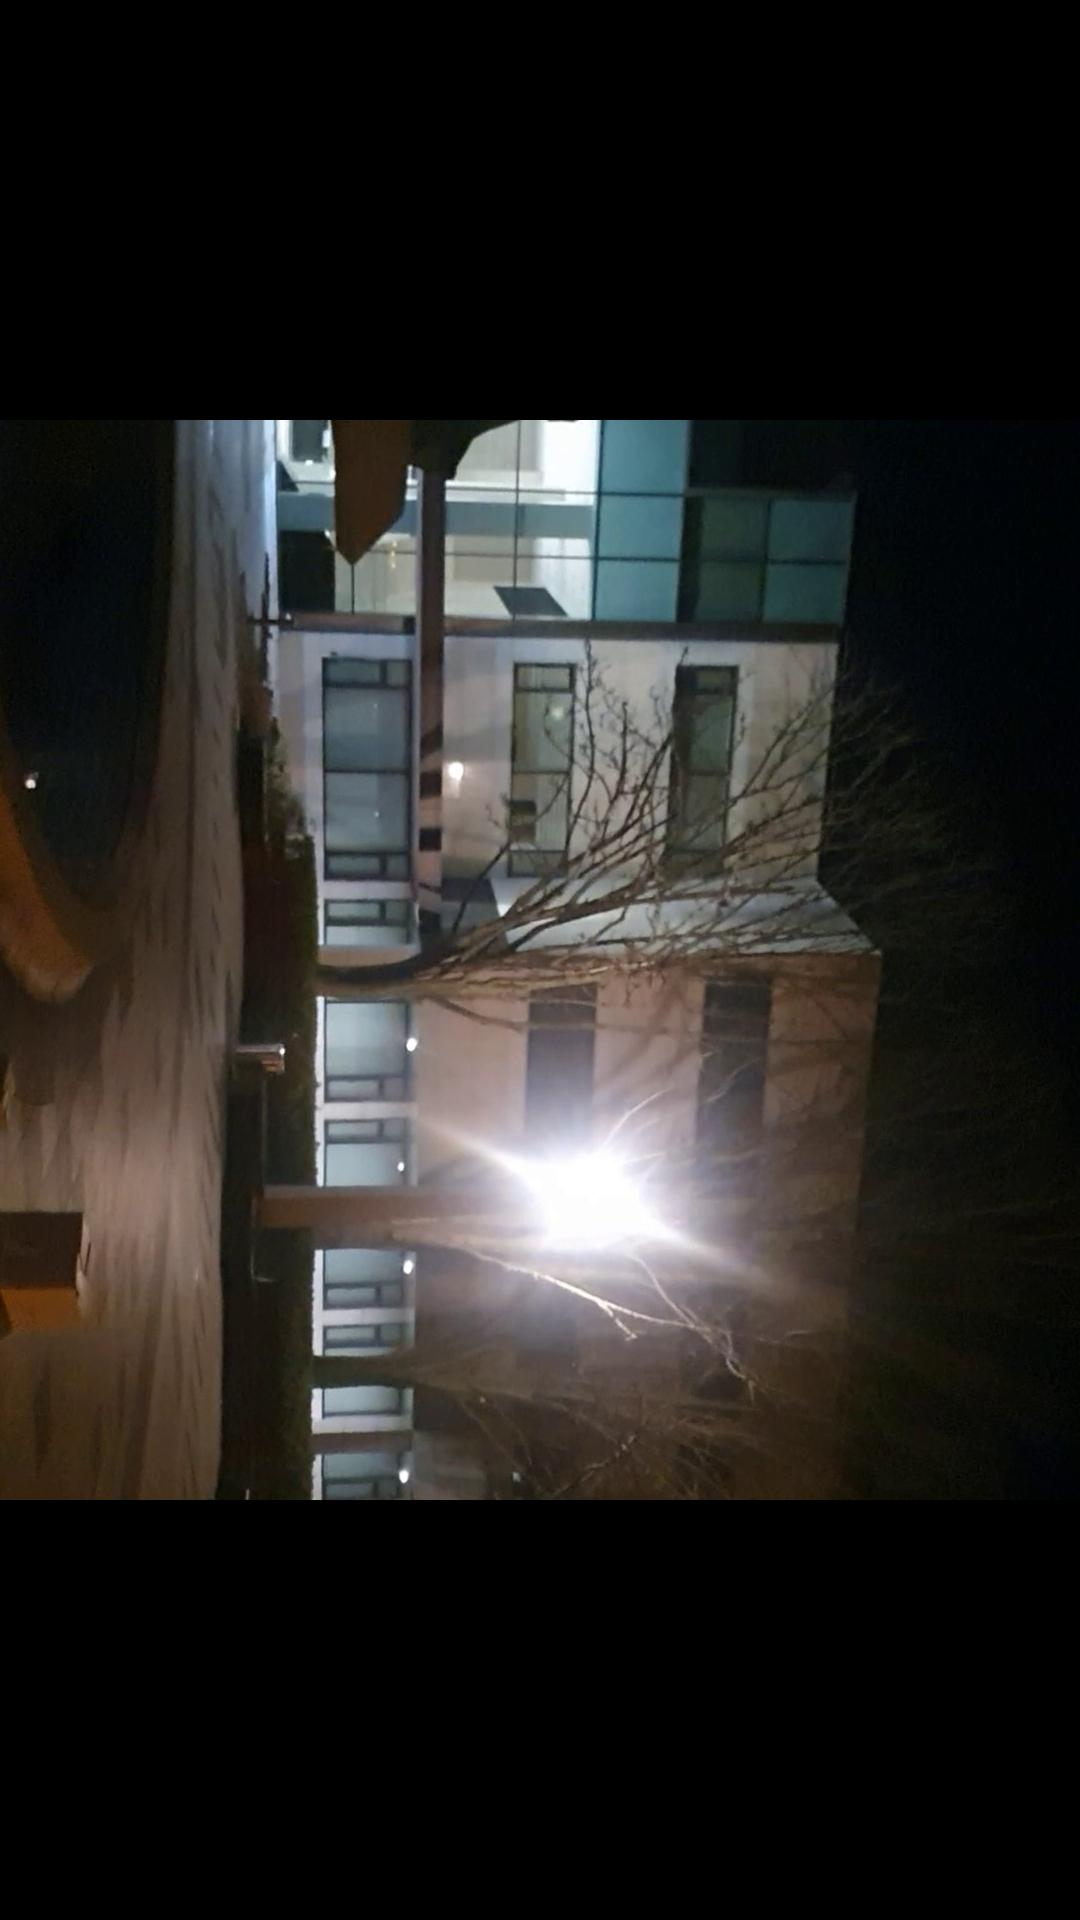Box: (0, 1191, 105, 1346), (0, 1040, 25, 1137)
